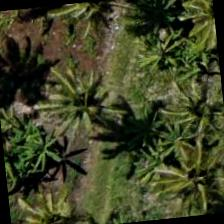Kelapa_Sawit: (31, 58, 130, 157), (117, 0, 217, 98), (151, 68, 223, 166), (154, 135, 223, 220)
